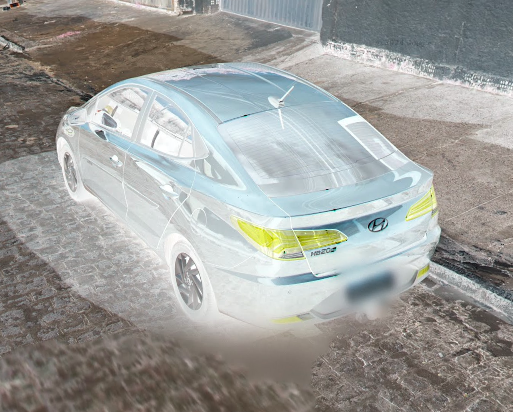car: (53, 60, 442, 326)
